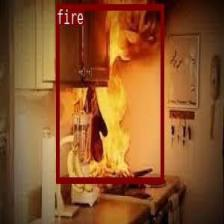fire: (56, 2, 163, 182)
